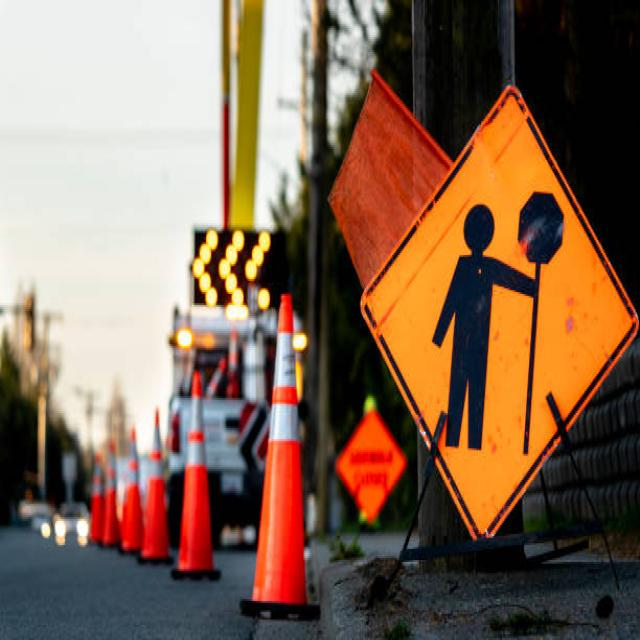Traffic Cone: (228, 242, 337, 640)
